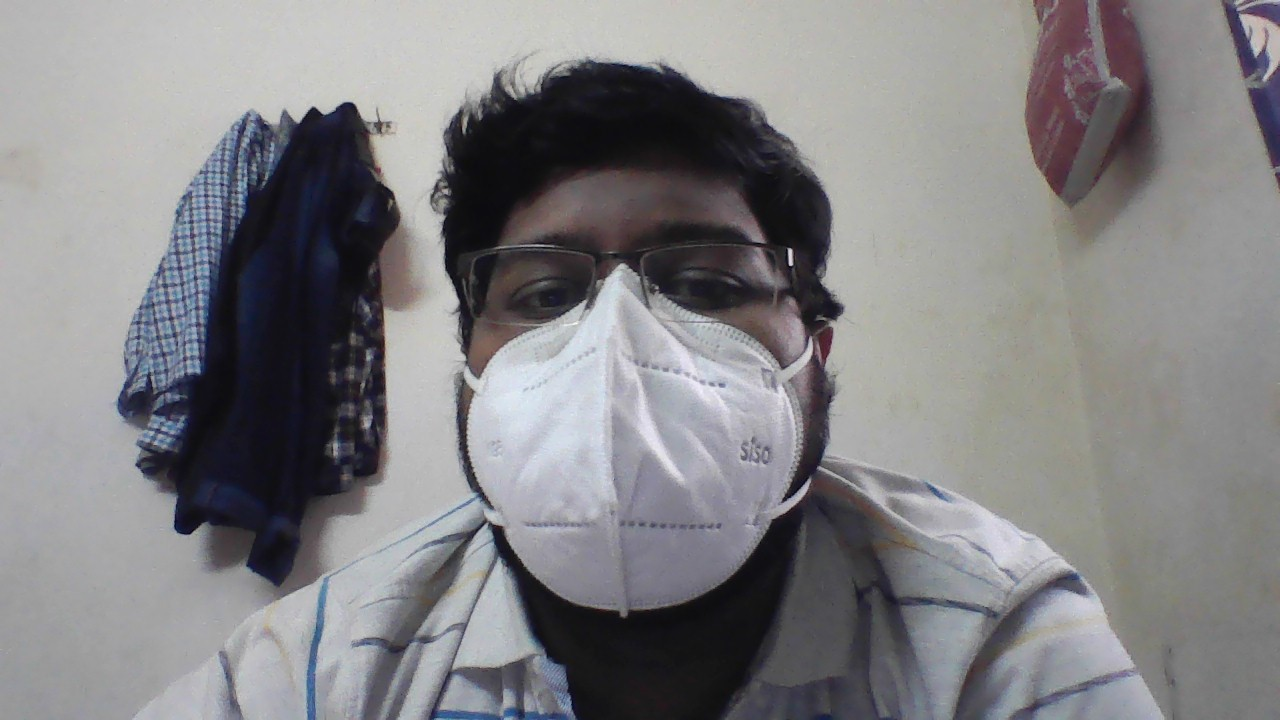Mask: (483, 307, 823, 578)
